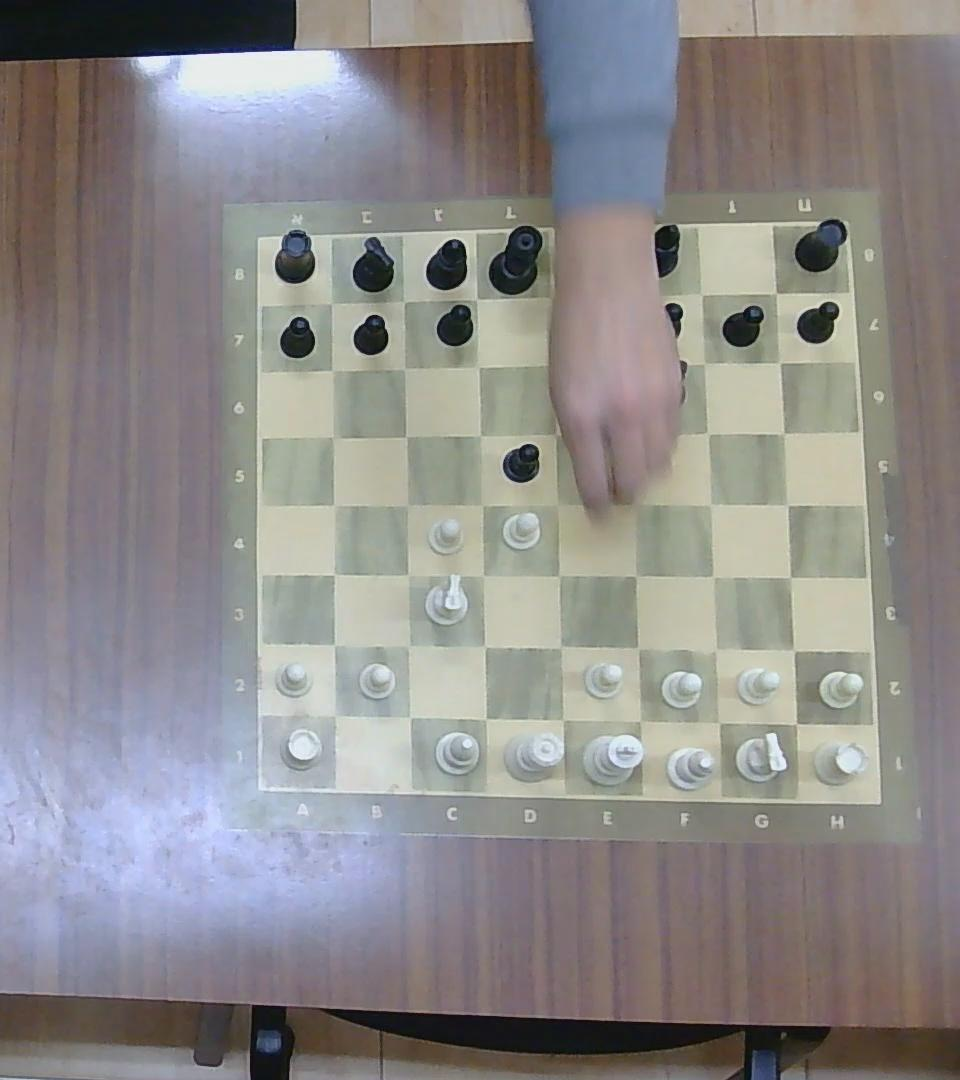xcorner: (779, 705, 813, 739), (623, 702, 656, 735), (620, 631, 653, 664), (546, 701, 578, 735), (702, 705, 734, 738), (698, 633, 731, 665), (468, 630, 500, 662), (543, 630, 575, 662), (615, 282, 647, 314), (470, 703, 501, 734), (774, 561, 805, 592), (319, 698, 350, 729), (393, 701, 423, 732), (698, 561, 728, 592), (393, 630, 423, 661), (777, 634, 808, 664), (543, 560, 573, 590), (319, 629, 349, 659), (619, 418, 649, 448), (532, 283, 562, 313), (621, 560, 650, 590), (467, 560, 496, 590), (393, 560, 422, 590), (460, 284, 490, 313), (621, 489, 650, 519), (316, 287, 345, 316), (772, 488, 801, 517), (543, 488, 572, 517), (543, 419, 572, 448), (320, 558, 348, 588), (467, 488, 495, 517), (693, 419, 722, 447), (393, 490, 421, 518), (317, 421, 345, 449), (697, 490, 725, 518), (320, 490, 348, 518), (317, 354, 345, 381), (770, 418, 798, 445), (464, 352, 492, 379), (622, 351, 648, 380), (389, 286, 416, 313), (536, 351, 564, 377), (392, 422, 419, 448), (389, 355, 416, 380), (690, 350, 716, 375), (689, 280, 714, 306), (467, 421, 492, 446), (767, 348, 792, 373), (763, 281, 789, 305)
